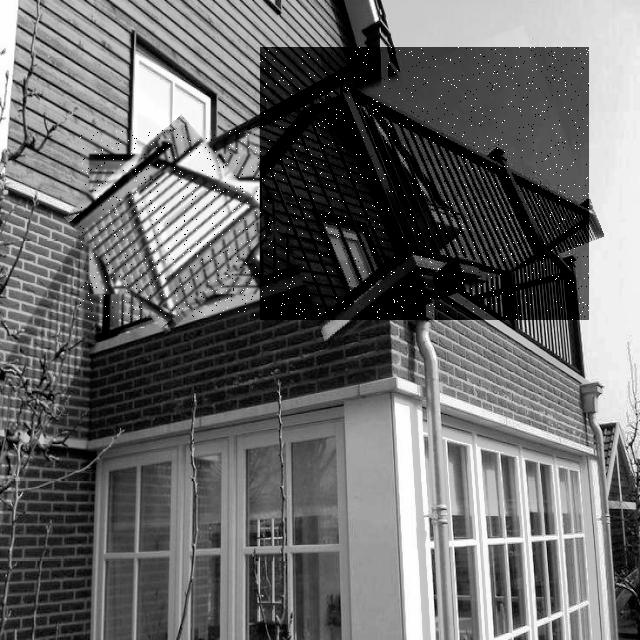fences: (260, 47, 589, 320), (80, 130, 268, 318)
